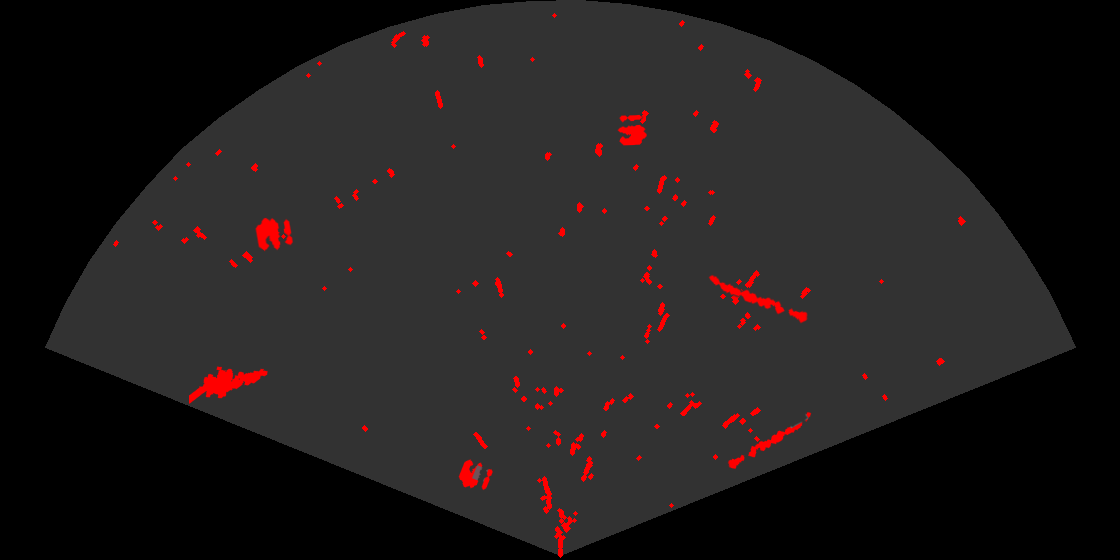ball: (254, 216, 295, 253), (457, 458, 494, 492), (616, 113, 648, 147)
chain: (707, 273, 810, 325), (726, 410, 813, 470)
frogman: (189, 365, 269, 405)
